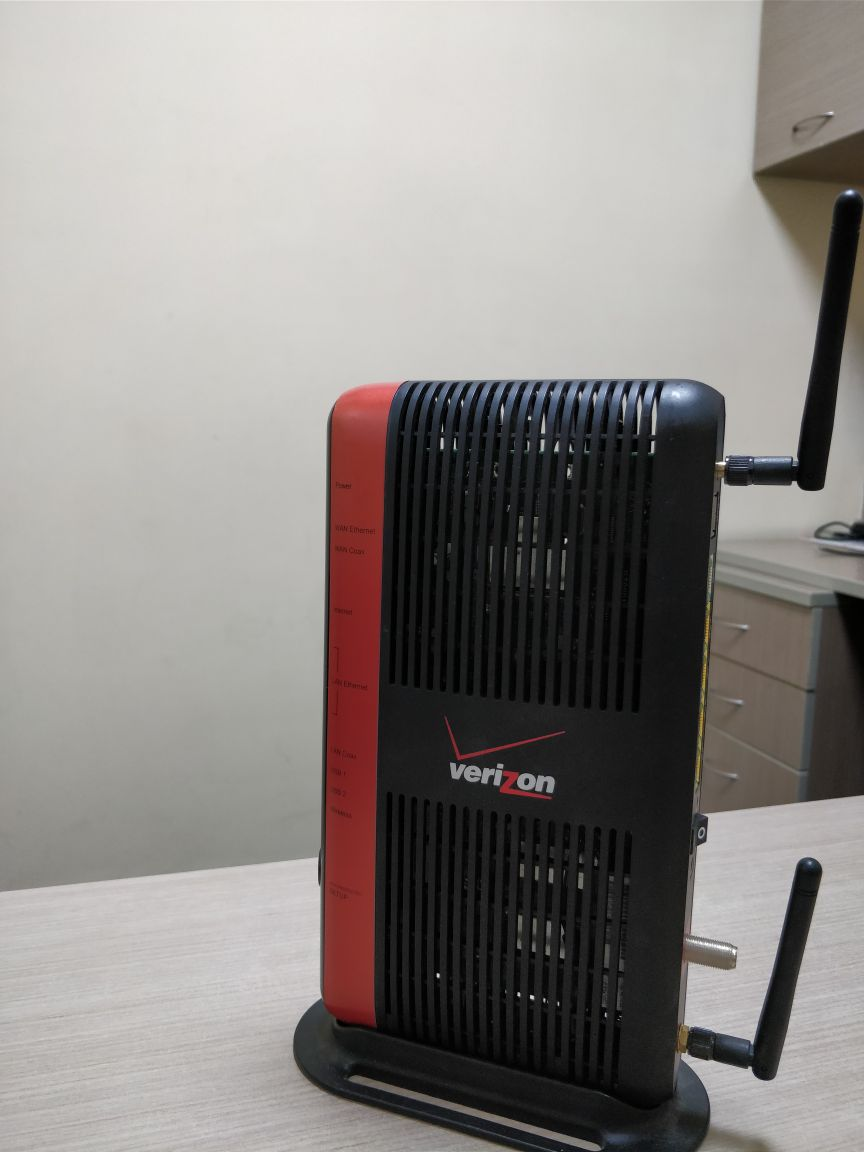Verizon Router: (231, 235, 855, 1151)
